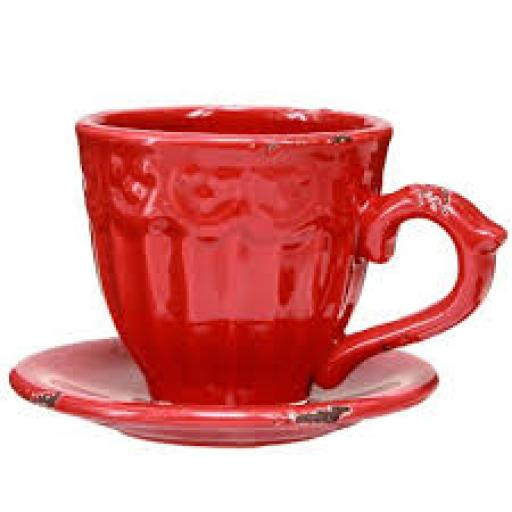red mug: (75, 107, 503, 400)
